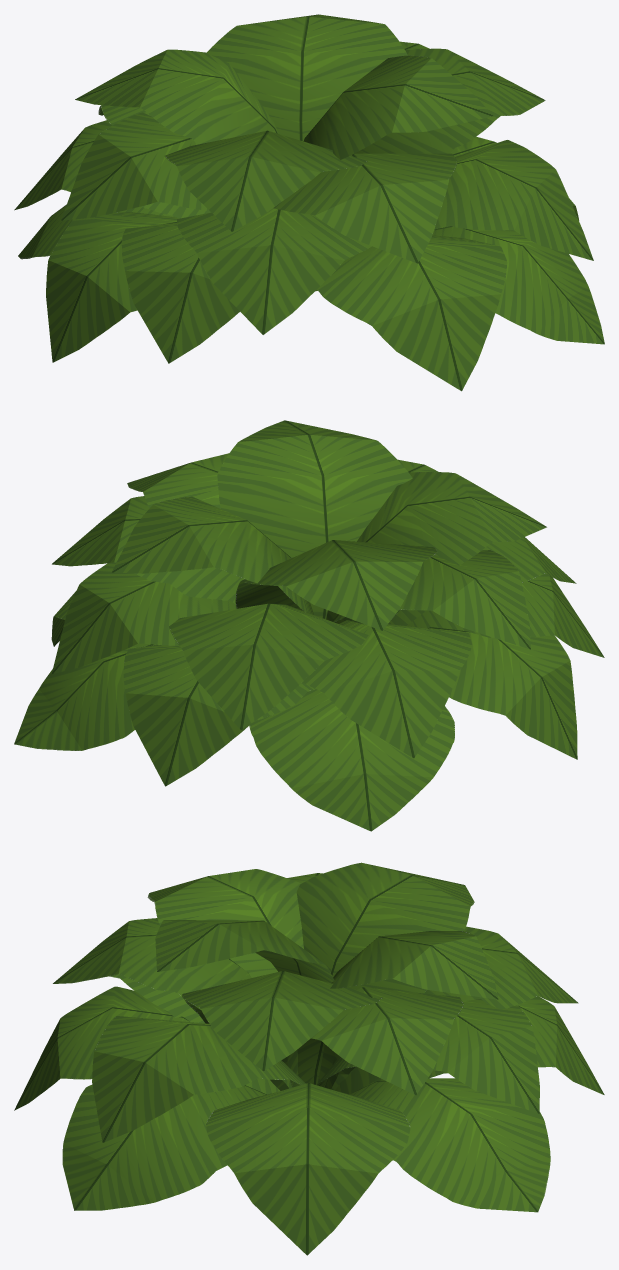
Rendered from Bush.fbx.
3 renders of one model, top to bottom at view 1: azimuth 30°, elevation 25°; view 2: azimuth 150°, elevation 25°; view 3: azimuth 270°, elevation 25°, orthographic. The views are drawn at different scales.
Parts seen in each view (by area): view 1: Bush; view 2: Bush; view 3: Bush.
Part boxes in pixels (box(x1,y1,x2,y2)): Bush: box(14, 14, 604, 391); Bush: box(14, 420, 604, 831); Bush: box(14, 862, 604, 1255).
Size of the model in its own units: 4.26 by 1.82 by 4.25.
